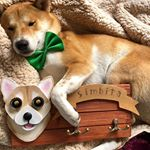puppy: (1, 1, 97, 123)
